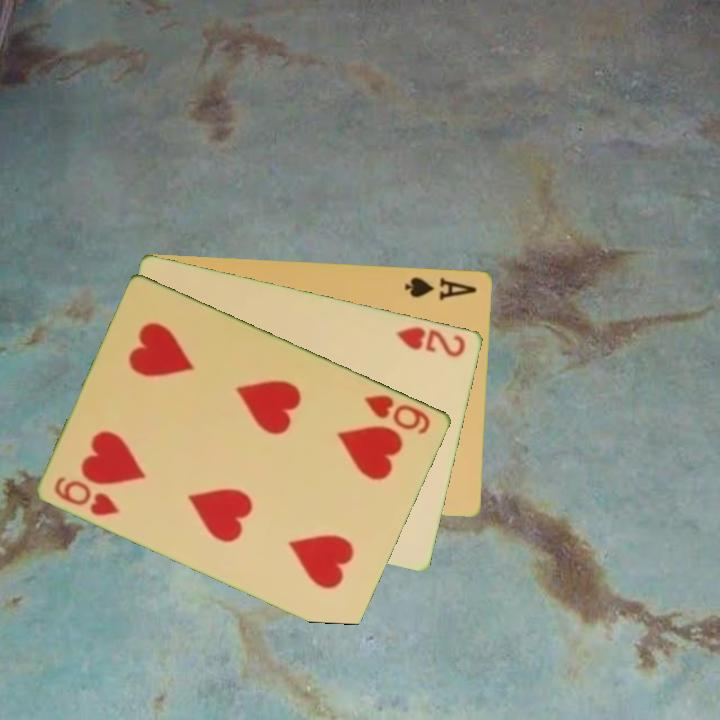2h: (392, 322, 469, 360)
6h: (361, 390, 434, 437), (51, 472, 123, 519)
As: (402, 273, 480, 303)
